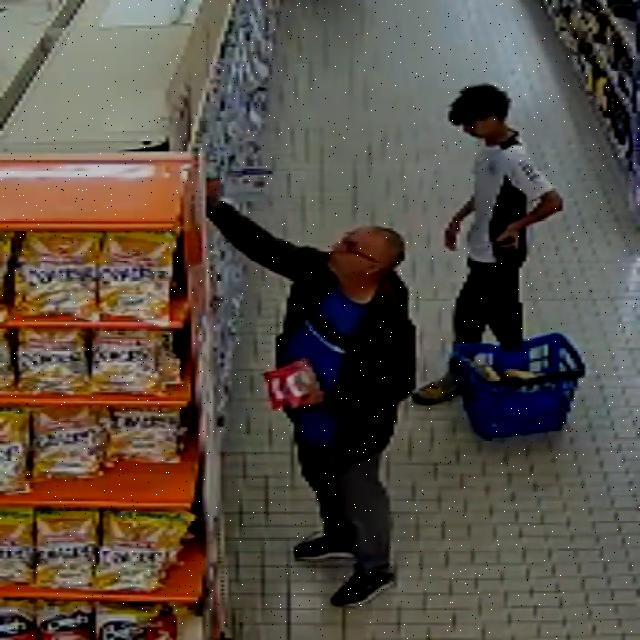article: (266, 356, 318, 412)
hands: (495, 223, 521, 250), (445, 217, 461, 251), (297, 388, 324, 408), (206, 179, 221, 206)
